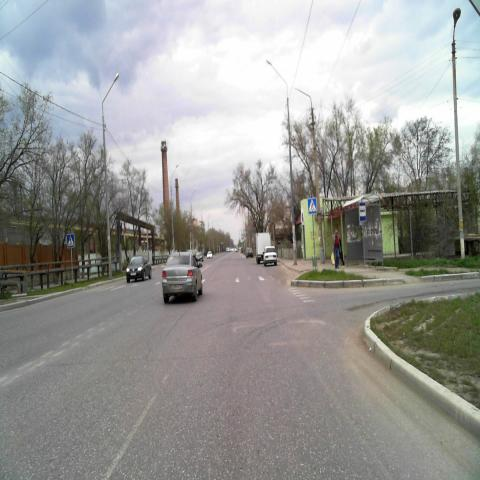5_16: (359, 202, 366, 222)
5_19_1: (308, 198, 317, 213), (66, 234, 75, 248)
